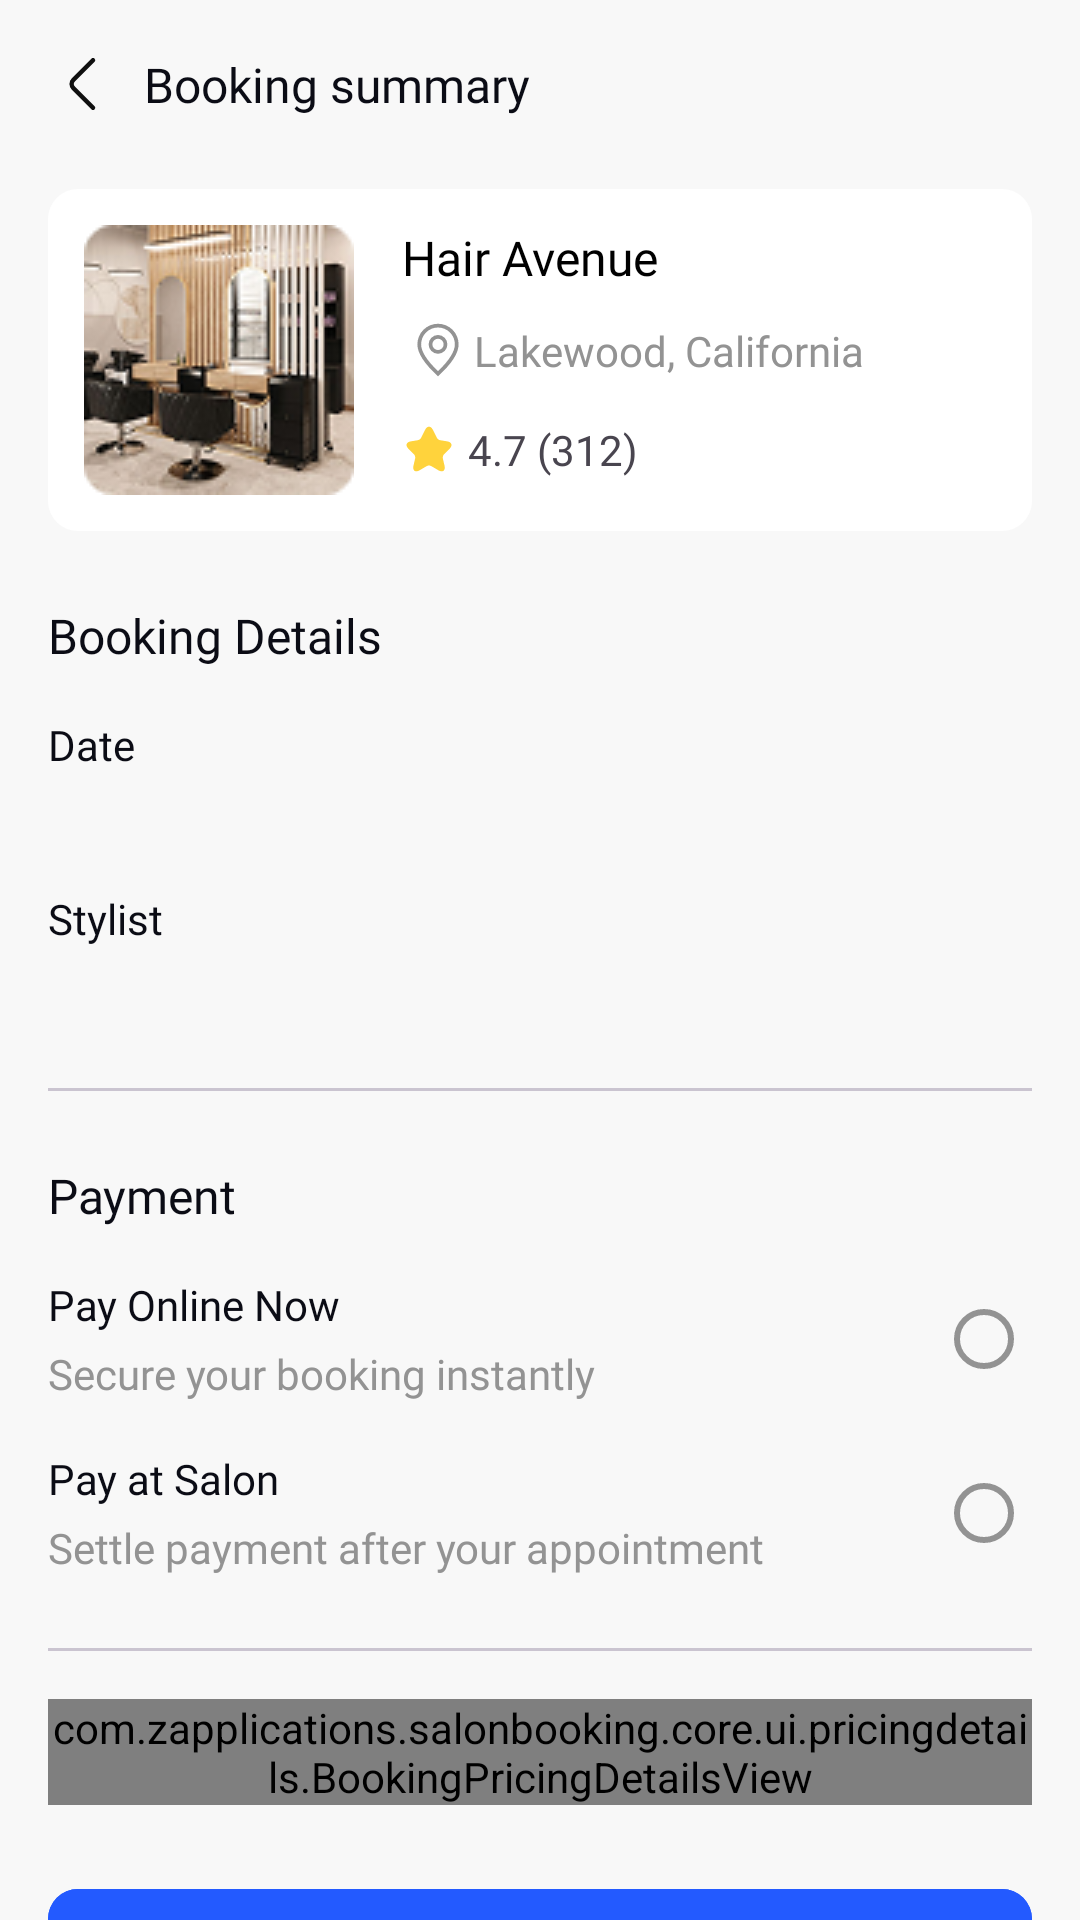

Where icons sit on this 1080x1920 app screen, as region(x1, y1, x2, y2):
arrow back: region(69, 58, 96, 110)
location: region(417, 323, 459, 376)
rating: region(406, 426, 452, 472)
salonimage: region(84, 225, 354, 495)
